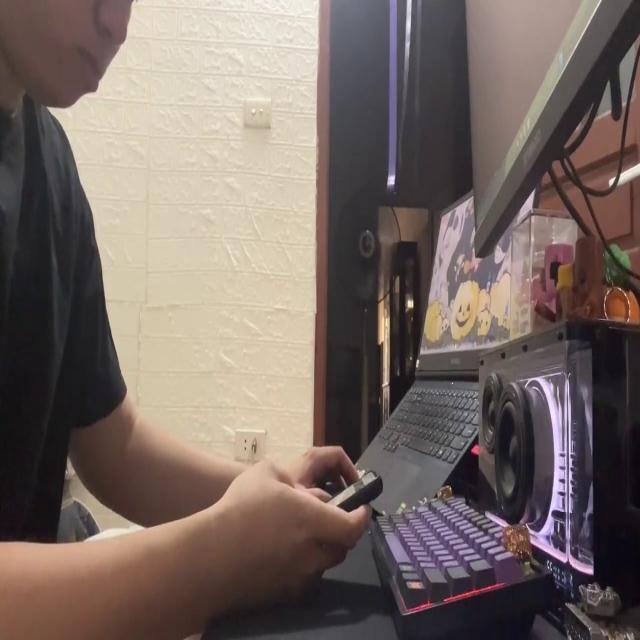laptop: (341, 171, 545, 518), (464, 0, 640, 263)
phone: (323, 455, 384, 526)
student: (0, 0, 373, 640)
